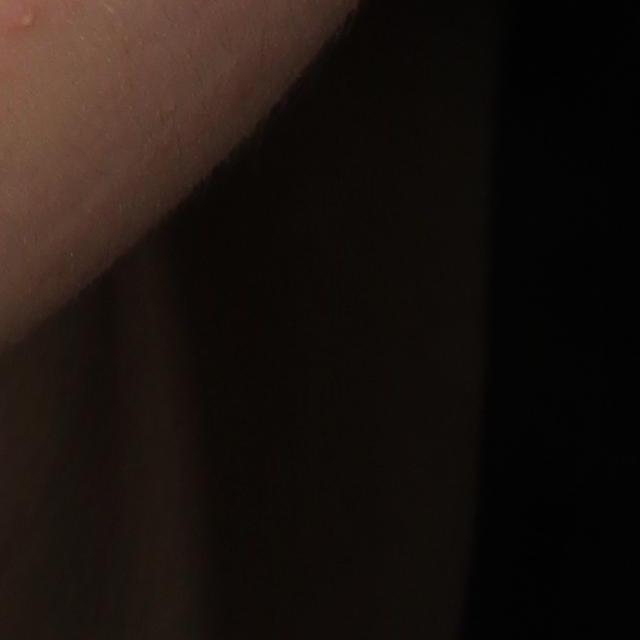pustule: (9, 3, 44, 37)
